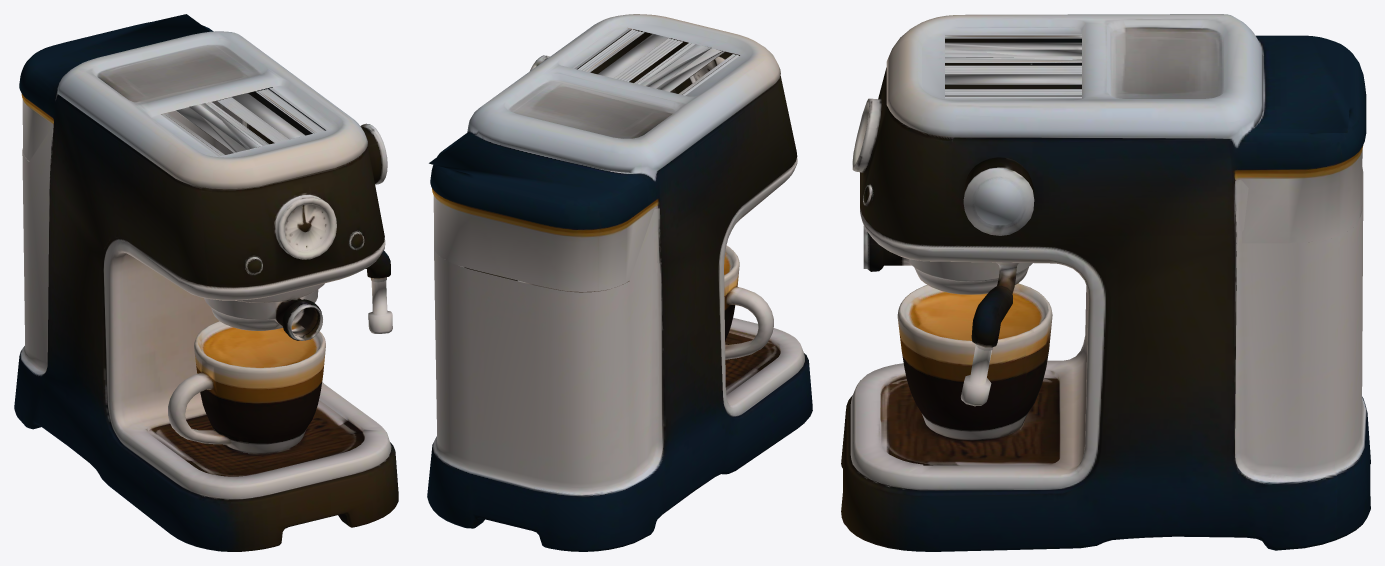
Rendered from espresso_machine_e722ed8c_v1.glb.
3 renders of one model, left to right at view 1: azimuth 30°, elevation 25°; view 2: azimuth 150°, elevation 25°; view 3: azimuth 270°, elevation 25°, orthographic. The views are drawn at different scales.
Parts seen in each view (by area): view 1: material; view 2: material; view 3: material.
Part boxes in pixels (x1=…): material: x1=14, y1=14, x2=398, y2=551; material: x1=427, y1=14, x2=812, y2=551; material: x1=841, y1=14, x2=1370, y2=551.
Size of the model in its own units: 1.18 by 1.71 by 1.9.
1 material, 1 textured.
